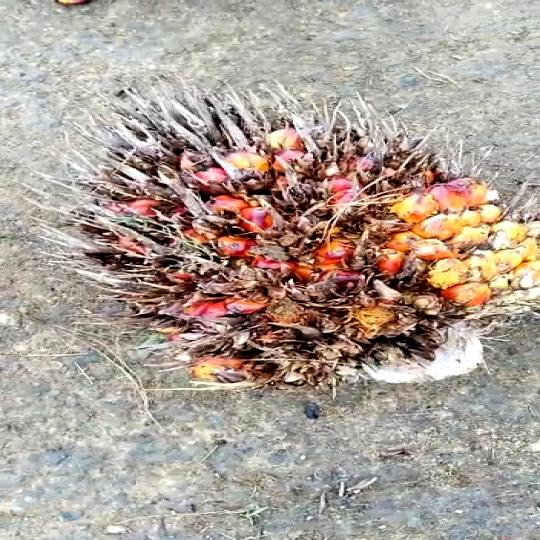terlalu masak: (80, 92, 540, 393)
